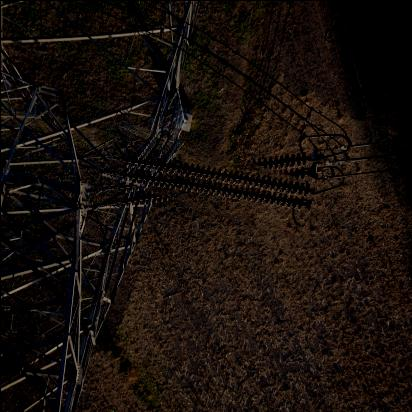insulator: (104, 135, 316, 225)
